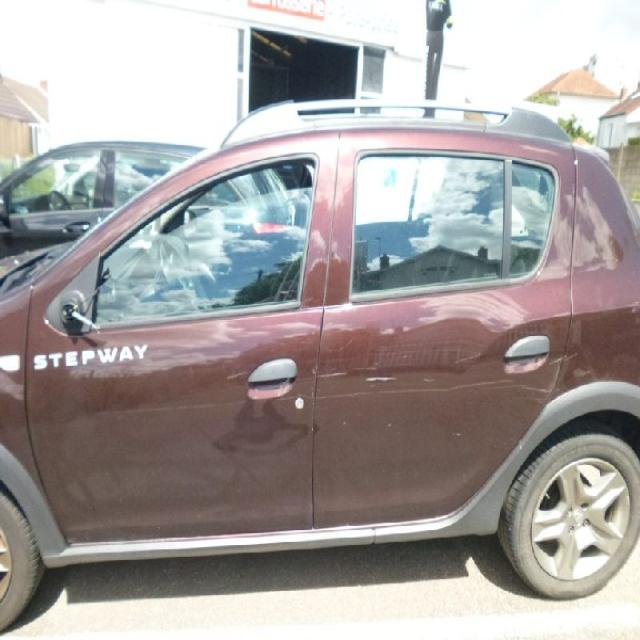porte-avant: (29, 128, 340, 540)
